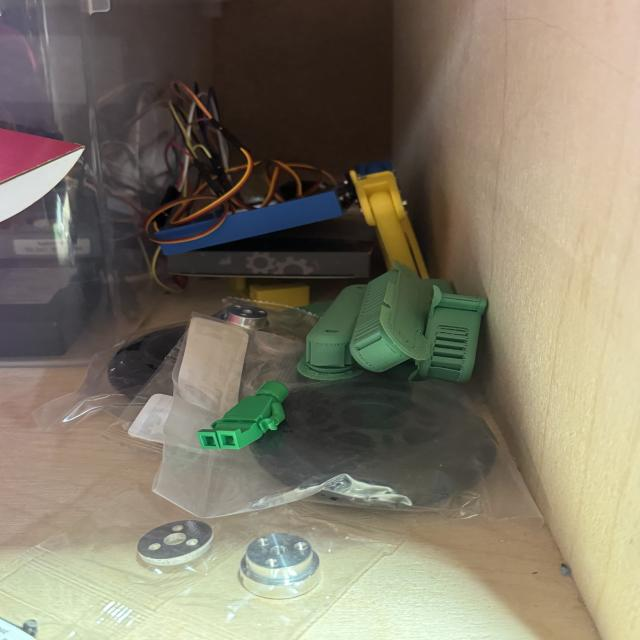Green Mini Figure: (197, 381, 289, 450)
